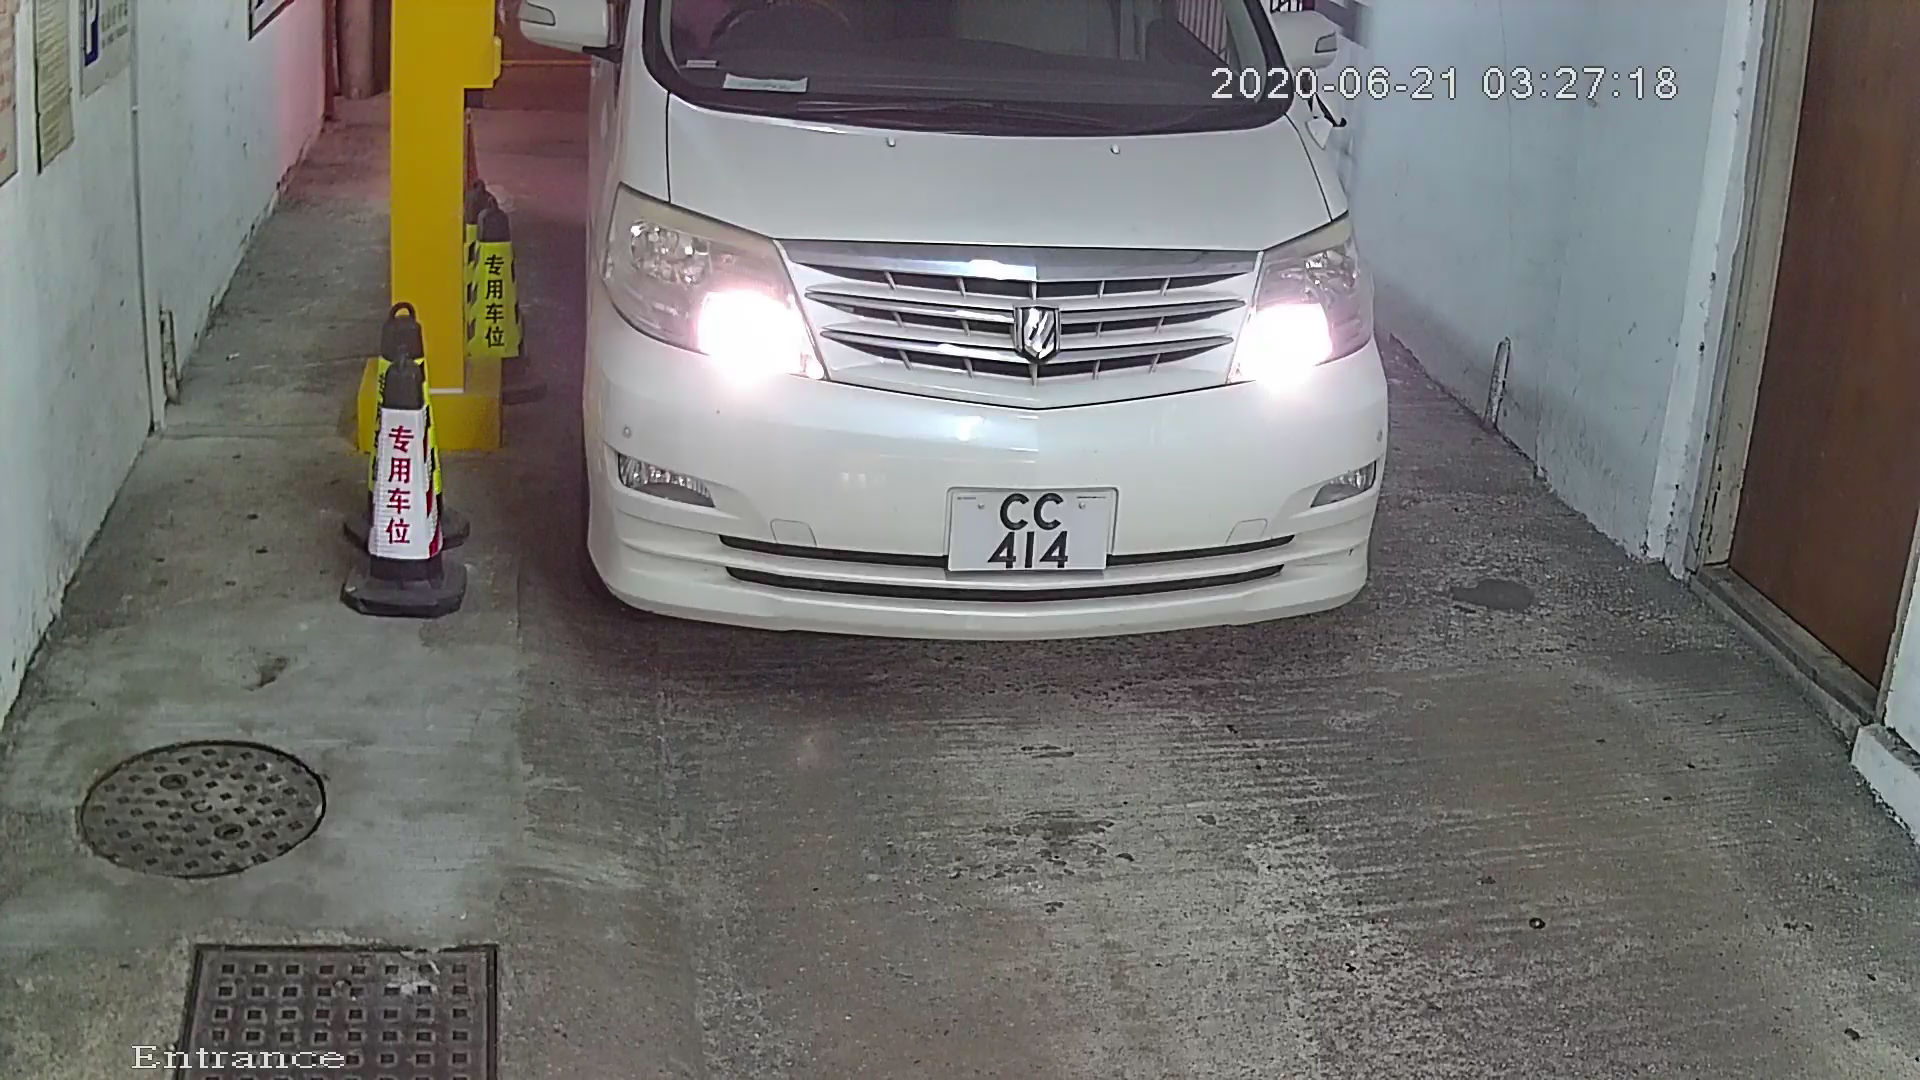privatecar: (525, 3, 1519, 737)
